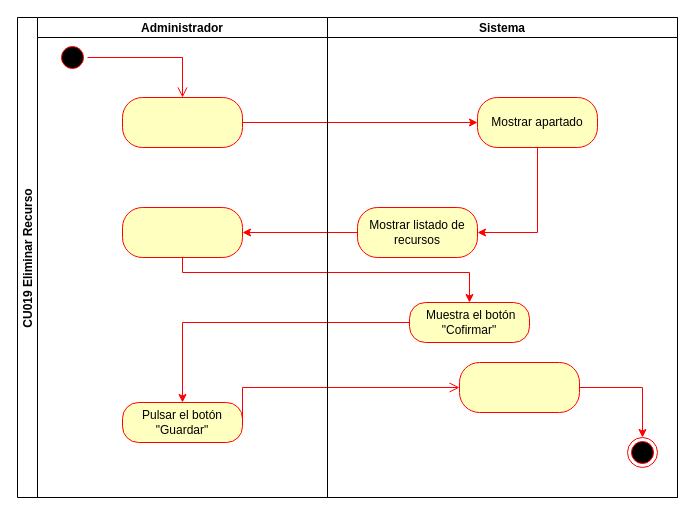
The diagram is 695 pixels wide and 515 high, and some of its shapes have lost their labels. The box of each missing label's shape, as (x1, y1, x2, y2) in pixels:
Mostrar mensaje de éxito: (458, 362, 580, 412)
Pulsa el apartado "Recursos": (122, 96, 242, 148)
Pulsar botón "Eliminar": (122, 206, 242, 258)
